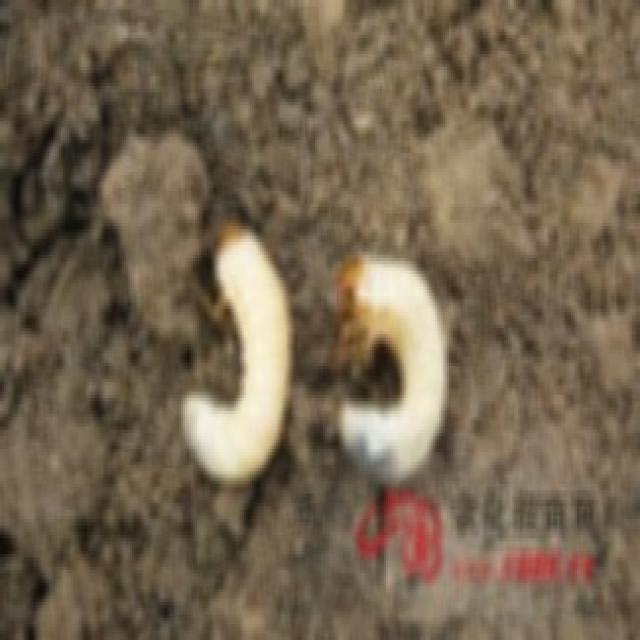grub: (173, 218, 291, 479), (327, 242, 455, 481)
